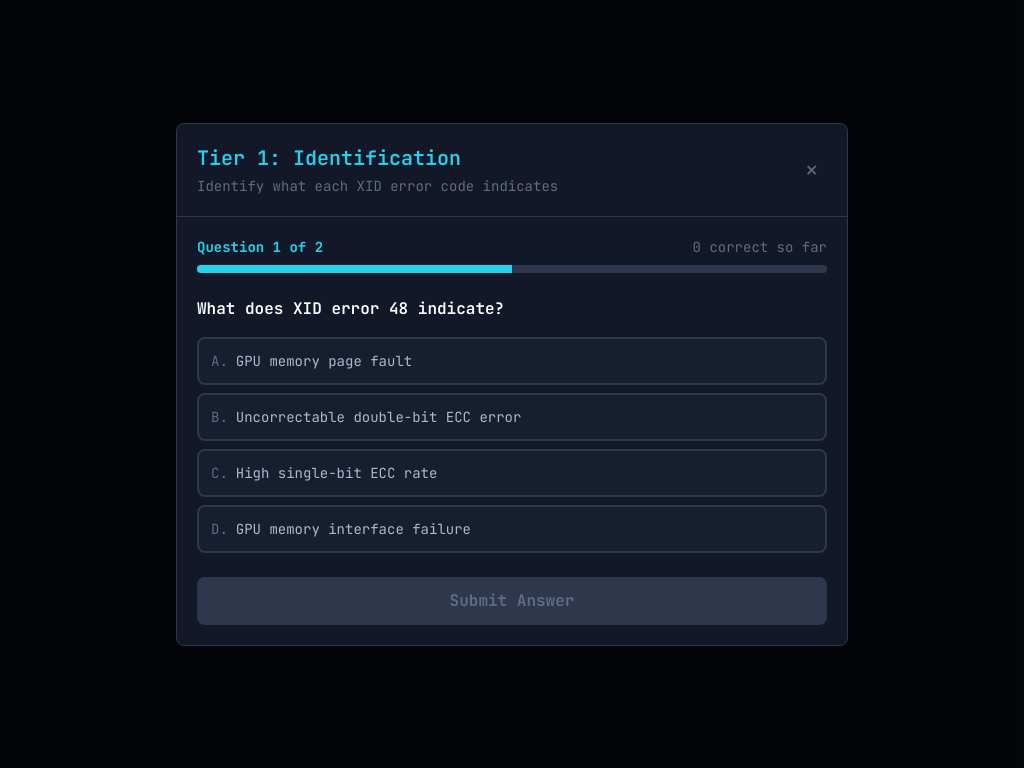
Test: XIDDrillQuiz › displays severity info in feedback
This screenshot has width=1024, height=768.
Click the button "A.GPU memory page fault" at (324, 360), box top-left (197, 336), bottom-right (827, 384)
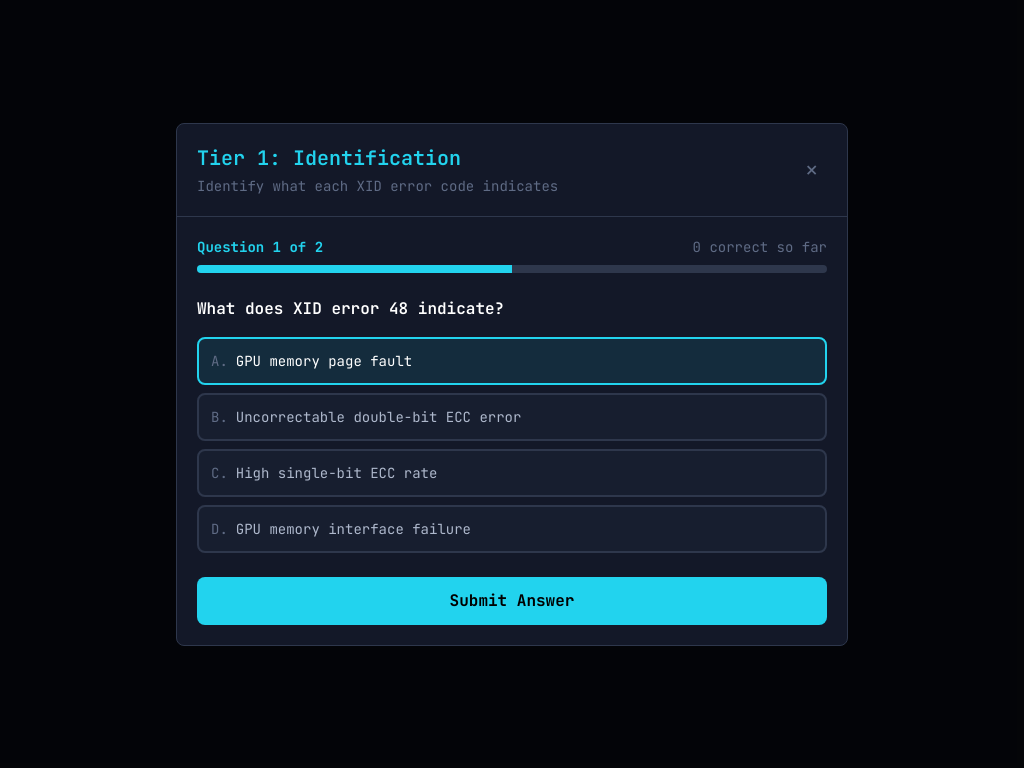
Click the button "Submit Answer" at (512, 600), box top-left (197, 576), bottom-right (827, 624)
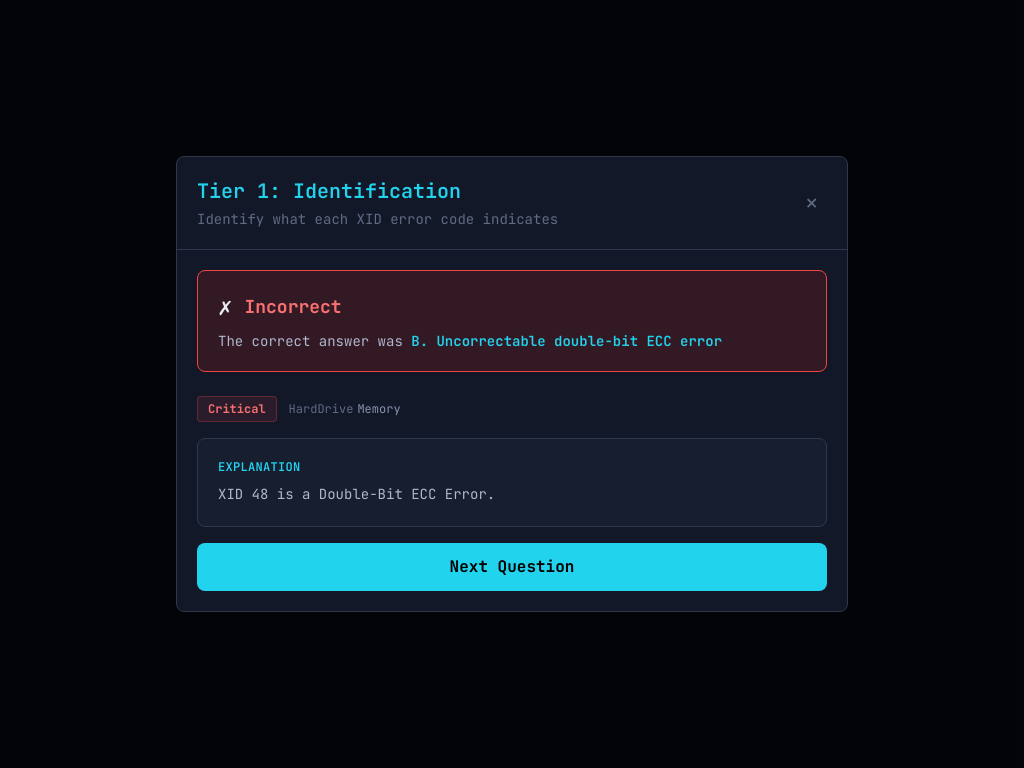
Now the text "Critical" is shown, box top-left (197, 396), bottom-right (277, 422)
Now the text with test id "severity-badge" reads "Critical", box top-left (208, 401), bottom-right (266, 417)
Now the element with test id "category-label" reads "HardDrive Memory", box top-left (357, 401), bottom-right (401, 417)
